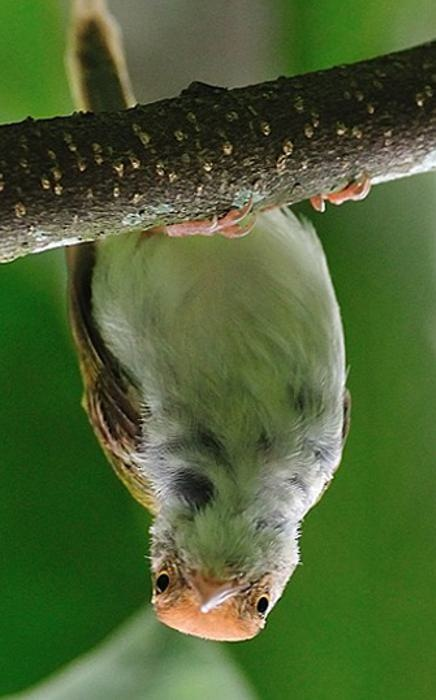tailorbird: (19, 102, 384, 669)
